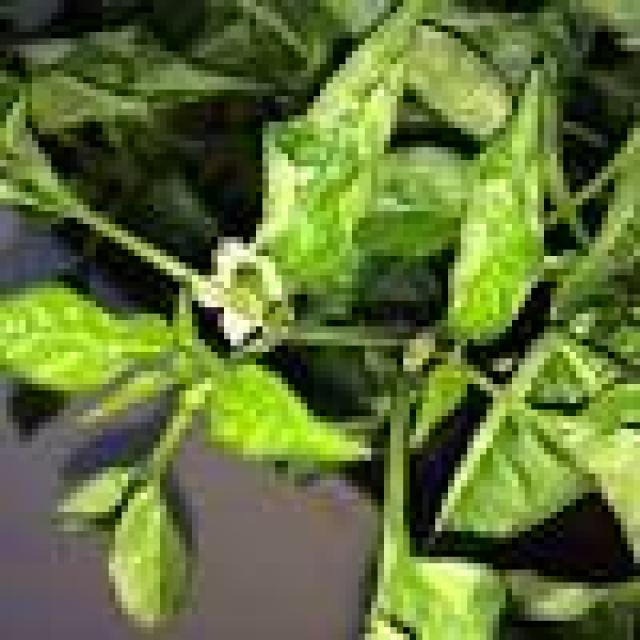Nutirtion_deficie: (230, 0, 626, 350), (0, 89, 233, 600), (426, 279, 640, 640)
